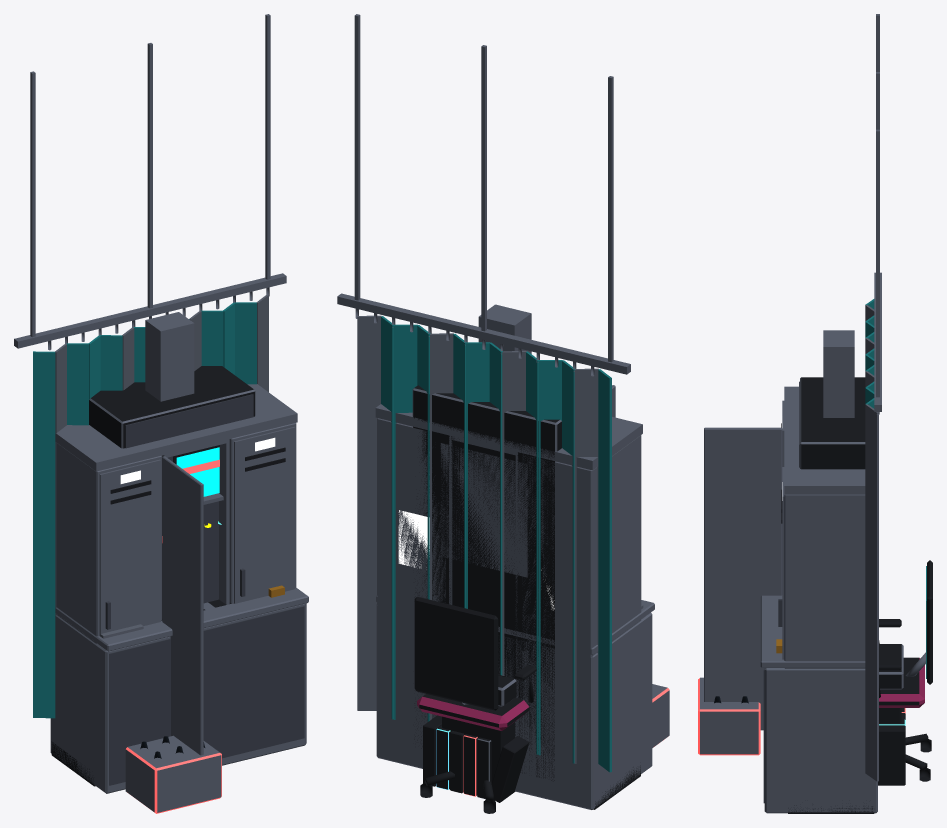
Rendered from room-detail-kits-props.glb.
3 renders of one model, left to right at view 1: azimuth 30°, elevation 25°; view 2: azimuth 150°, elevation 25°; view 3: azimuth 270°, elevation 25°, orthographic. The views are drawn at different scales.
Visible parts, largest first — view 1: rd-k-lockers, rd-k-bar-sink, rd-k-curtain, rd-k-control-cabinet; view 2: rd-k-curtain, rd-k-lockers, rd-k-bar-sink, rd-k-control-cabinet, rd-k-office-chair, rd-k-washbasin, rd-k-binders, rd-k-shredder; view 3: rd-k-lockers, rd-k-bar-sink, rd-k-curtain, rd-k-control-cabinet, rd-k-office-chair, rd-k-binders, rd-k-shredder.
Boxes of the visible parts, <box> form: rd-k-lockers: <box>51,384,297,786</box>; rd-k-bar-sink: <box>50,585,308,813</box>; rd-k-curtain: <box>14,14,286,718</box>; rd-k-control-cabinet: <box>89,312,255,603</box>; rd-k-curtain: <box>337,14,630,772</box>; rd-k-lockers: <box>375,385,642,809</box>; rd-k-bar-sink: <box>376,596,669,809</box>; rd-k-control-cabinet: <box>412,304,561,781</box>; rd-k-office-chair: <box>414,596,536,813</box>; rd-k-washbasin: <box>398,443,554,610</box>; rd-k-binders: <box>423,715,528,802</box>; rd-k-shredder: <box>442,674,516,783</box>; rd-k-lockers: <box>704,386,874,813</box>; rd-k-bar-sink: <box>698,595,877,813</box>; rd-k-curtain: <box>865,14,881,781</box>; rd-k-control-cabinet: <box>799,330,865,469</box>; rd-k-office-chair: <box>879,560,932,781</box>; rd-k-binders: <box>878,708,905,785</box>; rd-k-shredder: <box>879,644,903,723</box>.
Size of the model in its own units: 1.6 by 3.9 by 1.2.
1 material, 1 textured.
